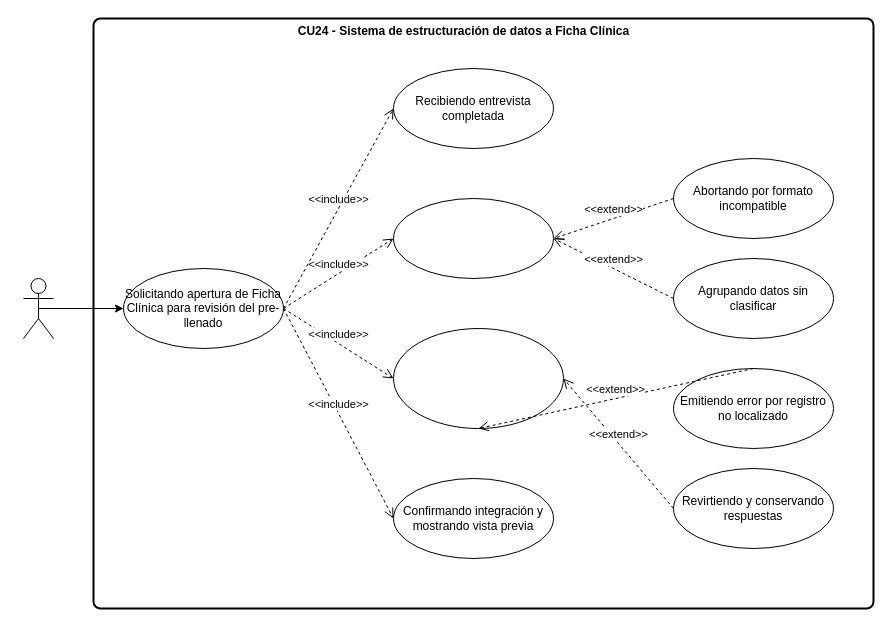
Some shapes in this 892 by 626 pixel diagram are drawn without their labels. The shapes that lost their labels are listed below. From the top down, each one's centre as x and y in pixels, then its label:
At (x=473, y=238): "Validando formato y categorizando respuestas".
At (x=38, y=308): "Sistema".
At (x=478, y=378): "Localizando o creando ficha y anexando resumen a la anamnesis".
